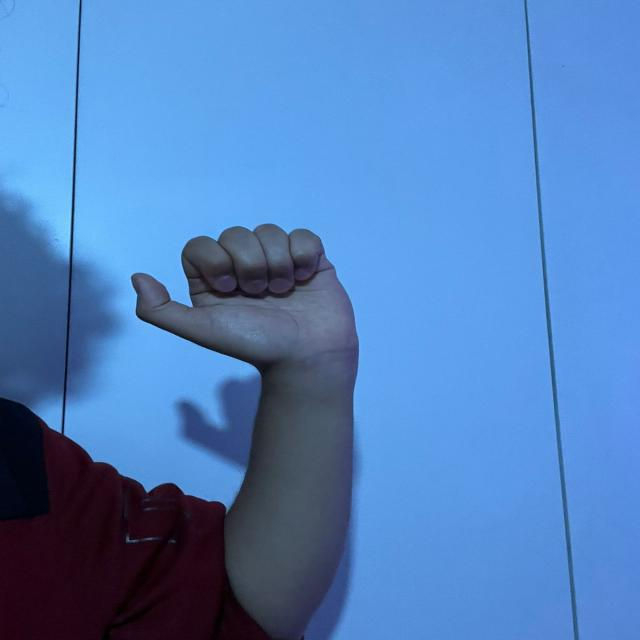E: (124, 218, 368, 361)
